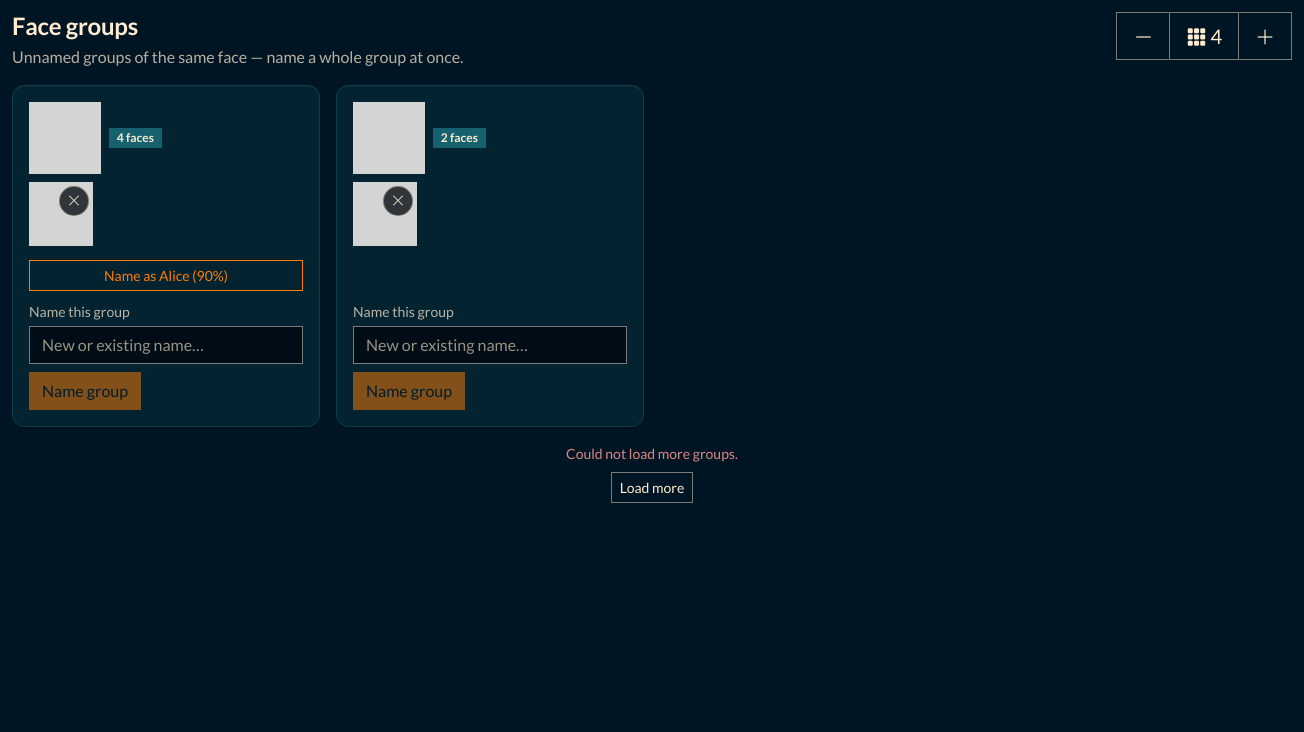
Test: ClustersPage › keeps the loaded groups and offers a retry when a later page fails
expect the text "Could not load more groups." is shown: met, box [566,445,738,462]
expect the text "4 faces" is shown: met, box [109,128,162,148]
Click the button "Load more": {"x": 652, "y": 487} [611,472,693,503]
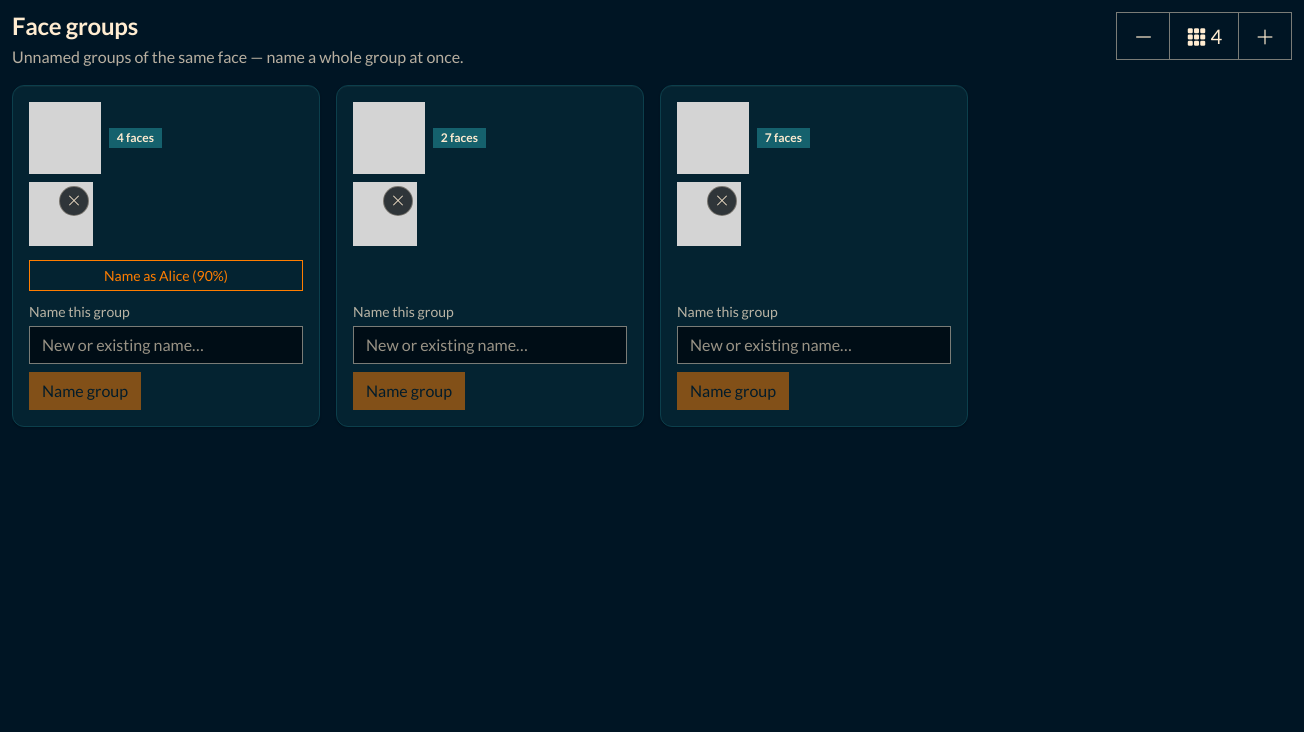
expect the text "7 faces" is shown: met, box [757,128,810,148]
